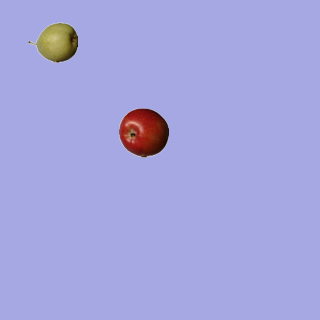Apple Braeburn: (118, 107, 168, 157)
Pear: (27, 17, 77, 67)
